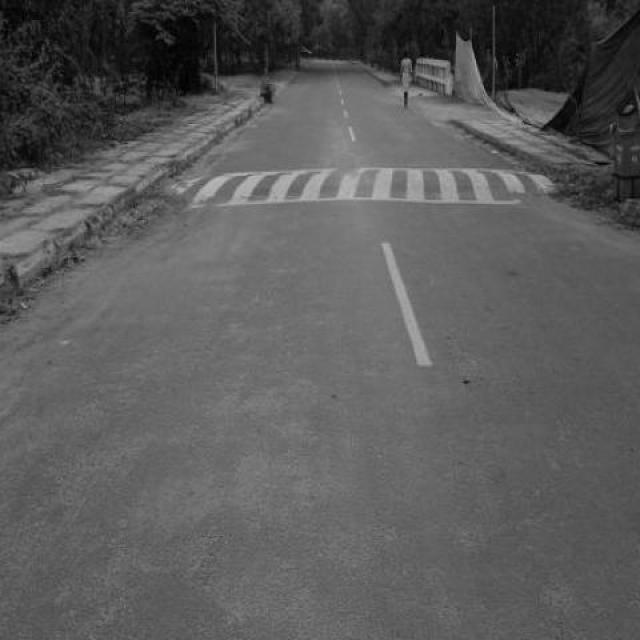Speed Bump: (169, 165, 552, 208)
